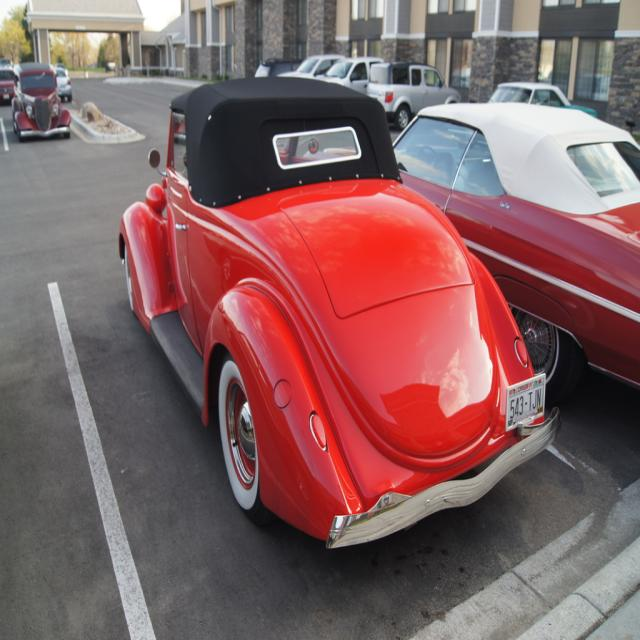car: (317, 97, 639, 416), (369, 60, 455, 131), (9, 54, 72, 146), (489, 74, 599, 120), (312, 54, 382, 89), (276, 51, 345, 79), (51, 61, 71, 103), (0, 64, 9, 98)
